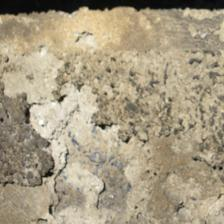Crack: (0, 0, 101, 153), (0, 0, 105, 66)
